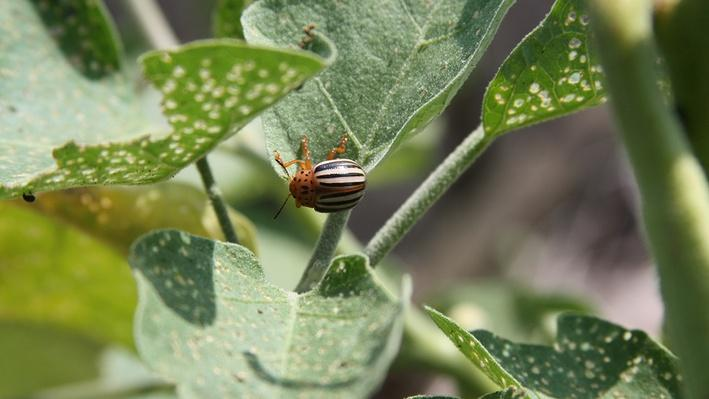hrosc: (276, 136, 376, 220)
